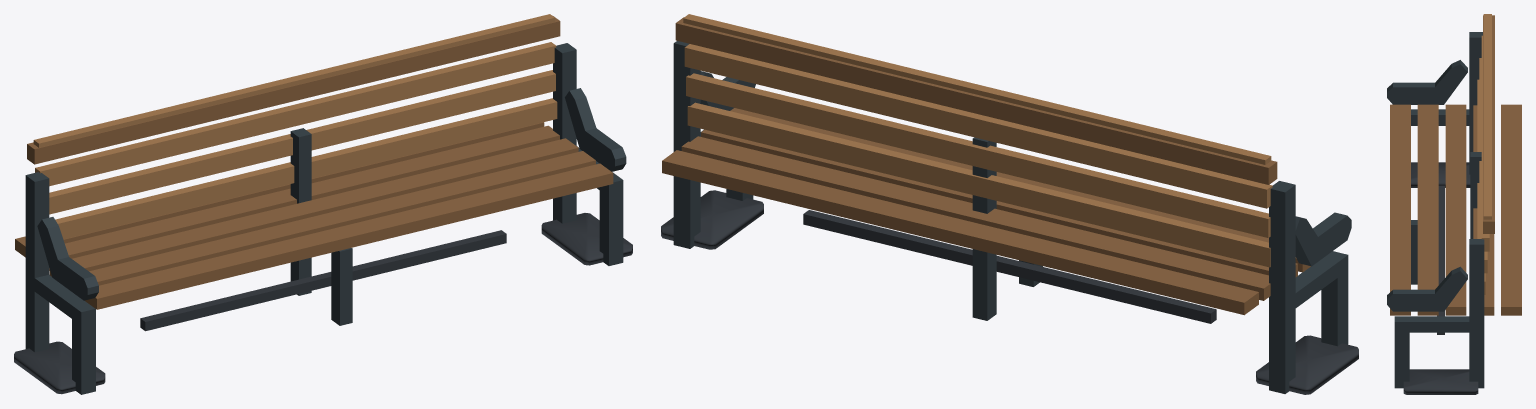
File: park-bench.glb
3 renders of one model, left to right at view 1: azimuth 30°, elevation 25°; view 2: azimuth 150°, elevation 25°; view 3: azimuth 270°, elevation 25°, orthographic. The views are drawn at different scales.
Visible parts, largest first — view 1: Merged_city-timber, Merged_city-timber-light, Merged_prop-accent, Merged_city-metal-dark; view 2: Merged_city-timber-light, Merged_city-timber, Merged_prop-accent, Merged_city-metal-dark; view 3: Merged_city-timber, Merged_prop-accent, Merged_city-timber-light, Merged_city-metal-dark.
Part boxes in pixels (<box>): Merged_city-timber: <box>15,15,613,309</box>; Merged_city-timber-light: <box>33,14,557,239</box>; Merged_prop-accent: <box>25,43,626,394</box>; Merged_city-metal-dark: <box>14,213,632,394</box>; Merged_city-timber-light: <box>683,14,1272,267</box>; Merged_city-timber: <box>662,17,1310,315</box>; Merged_prop-accent: <box>673,41,1351,393</box>; Merged_city-metal-dark: <box>661,190,1358,394</box>; Merged_city-timber: <box>1390,15,1521,315</box>; Merged_prop-accent: <box>1387,32,1484,388</box>; Merged_city-timber-light: <box>1477,14,1491,294</box>; Merged_city-metal-dark: <box>1403,162,1478,394</box>.
Size of what is drawn, in the model's own units: 3.57 by 1.23 by 0.9.
